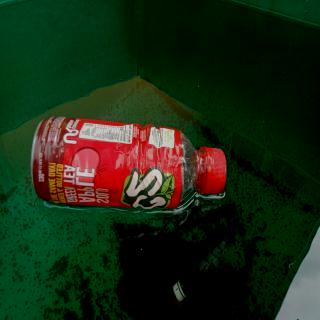bottle: (29, 111, 229, 212)
